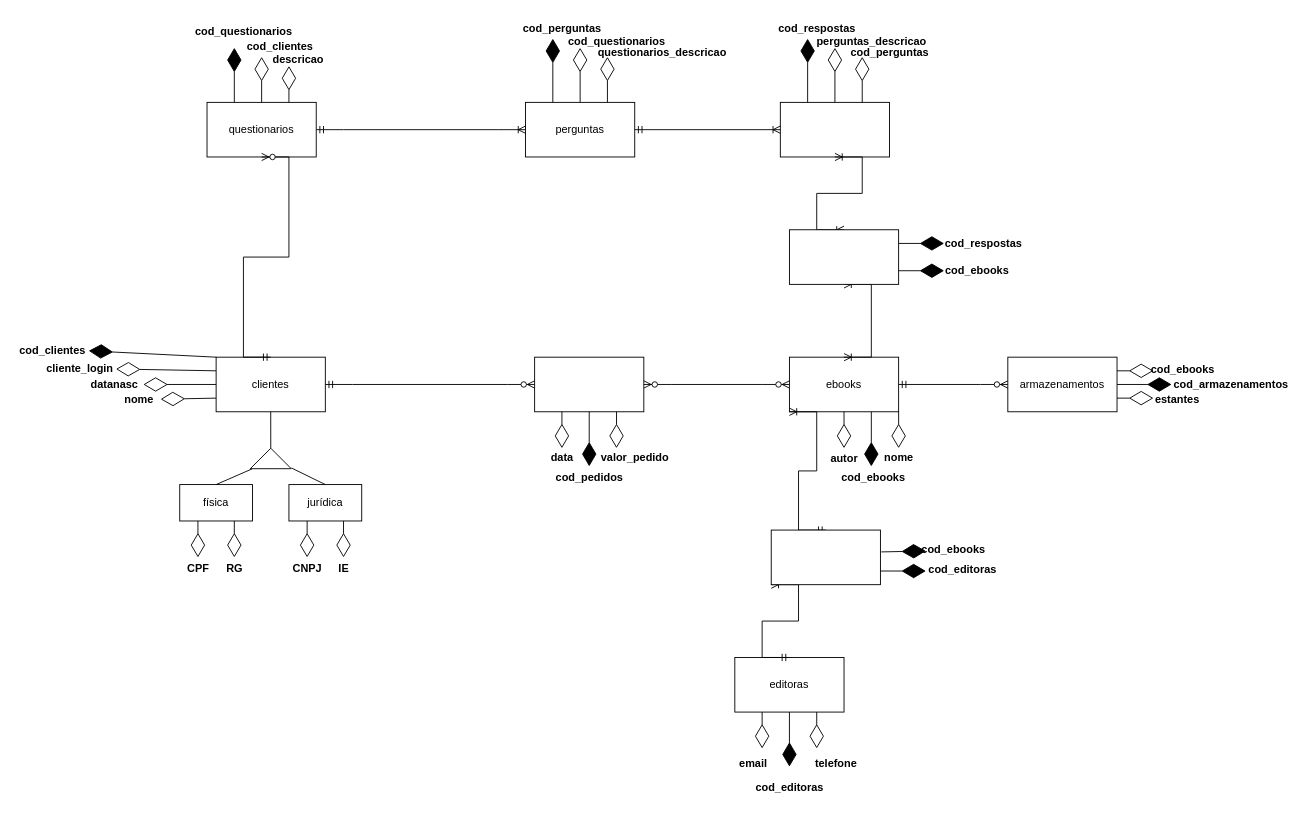
Some shapes in this 1303 by 815 pixel diagram are drawn without their labels. Each missing label, with the centre of its shape:
ebooks_editoras: point (825, 557)
ebooks_respostas: point (844, 256)
pedidos: point (589, 384)
respostas: point (834, 129)
